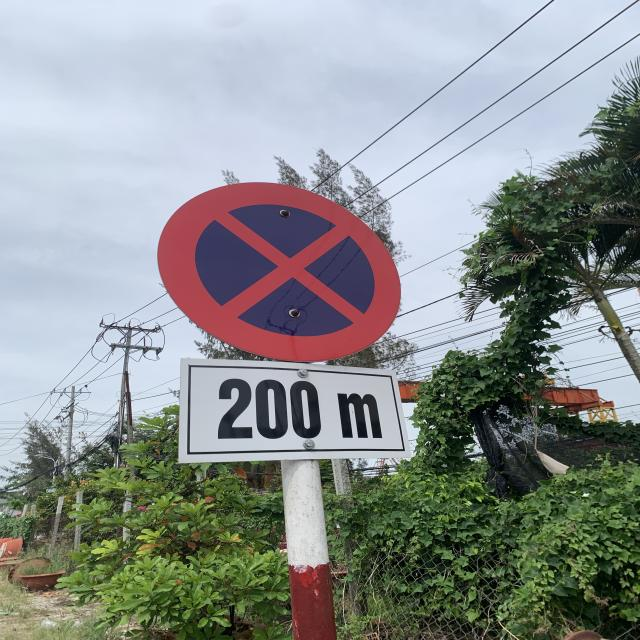Cam_Dung_Va_Dau_Xe: (158, 181, 402, 362)
